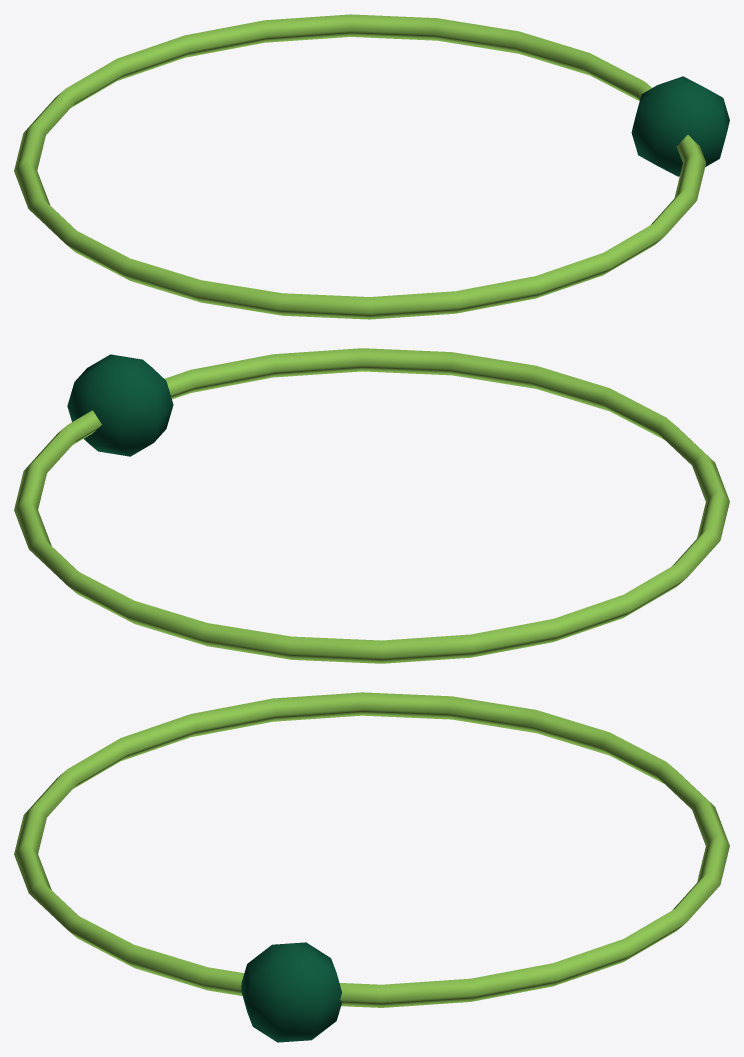
Rendered from Artifact_orbit_05.fbx.
3 renders of one model, top to bottom at view 1: azimuth 30°, elevation 25°; view 2: azimuth 150°, elevation 25°; view 3: azimuth 270°, elevation 25°, orthographic. The views are drawn at different scales.
Visible parts, largest first — view 1: Artifact_orbit_05; view 2: Artifact_orbit_05; view 3: Artifact_orbit_05.
Boxes of the visible parts, x1,y1,x2,y2 form: Artifact_orbit_05: [14, 14, 729, 319]; Artifact_orbit_05: [14, 348, 729, 663]; Artifact_orbit_05: [14, 692, 729, 1042].
Bounding box in the file's own units: 193 × 185 × 27.46.
